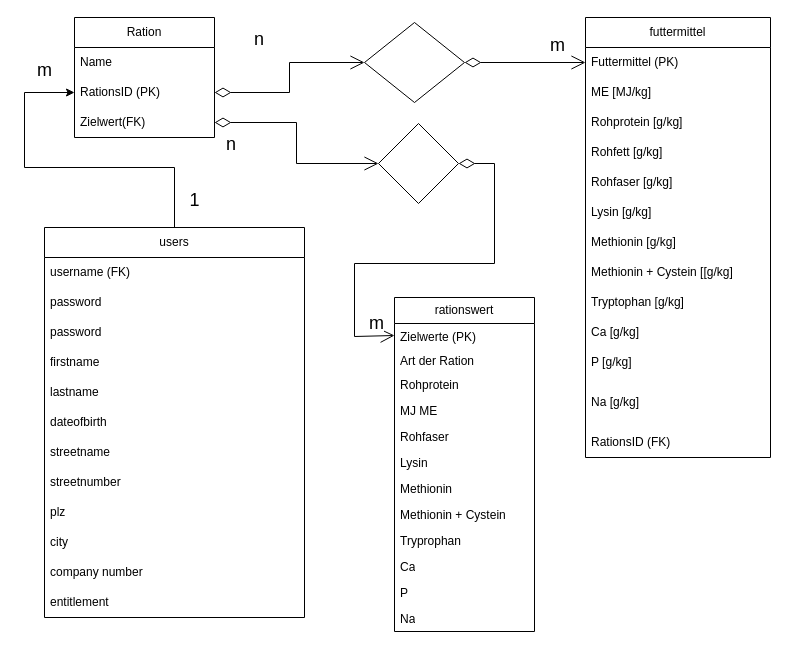
Image size: 788x652. Some labels were removed from this diagram. The centre of each missing label's shape, as x and y in pixels:
"Anteil an der Ration" goes at pixel 414 62.
"Anteil an Zielwert" goes at pixel 418 163.
